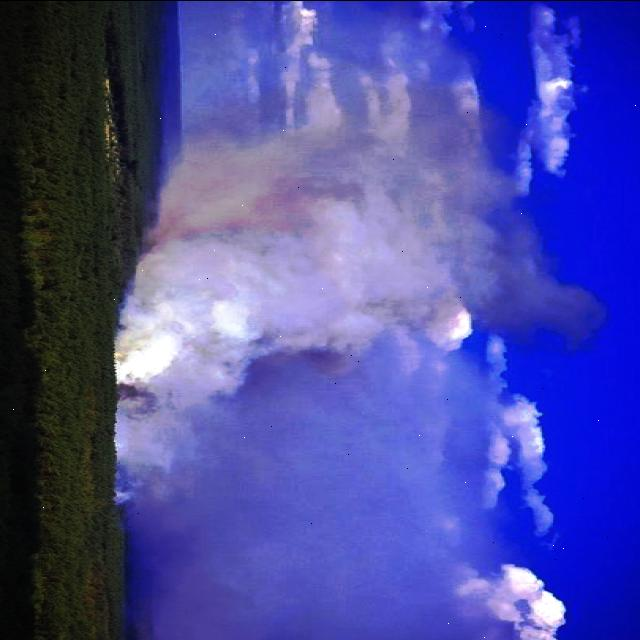asap: (116, 73, 544, 601)
